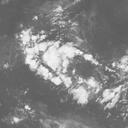cyclone: (31, 29, 105, 96)
